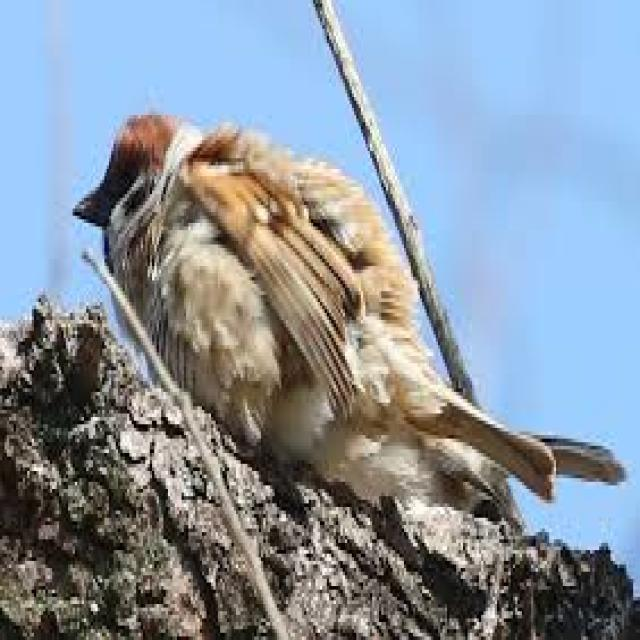bird: (85, 112, 616, 501)
